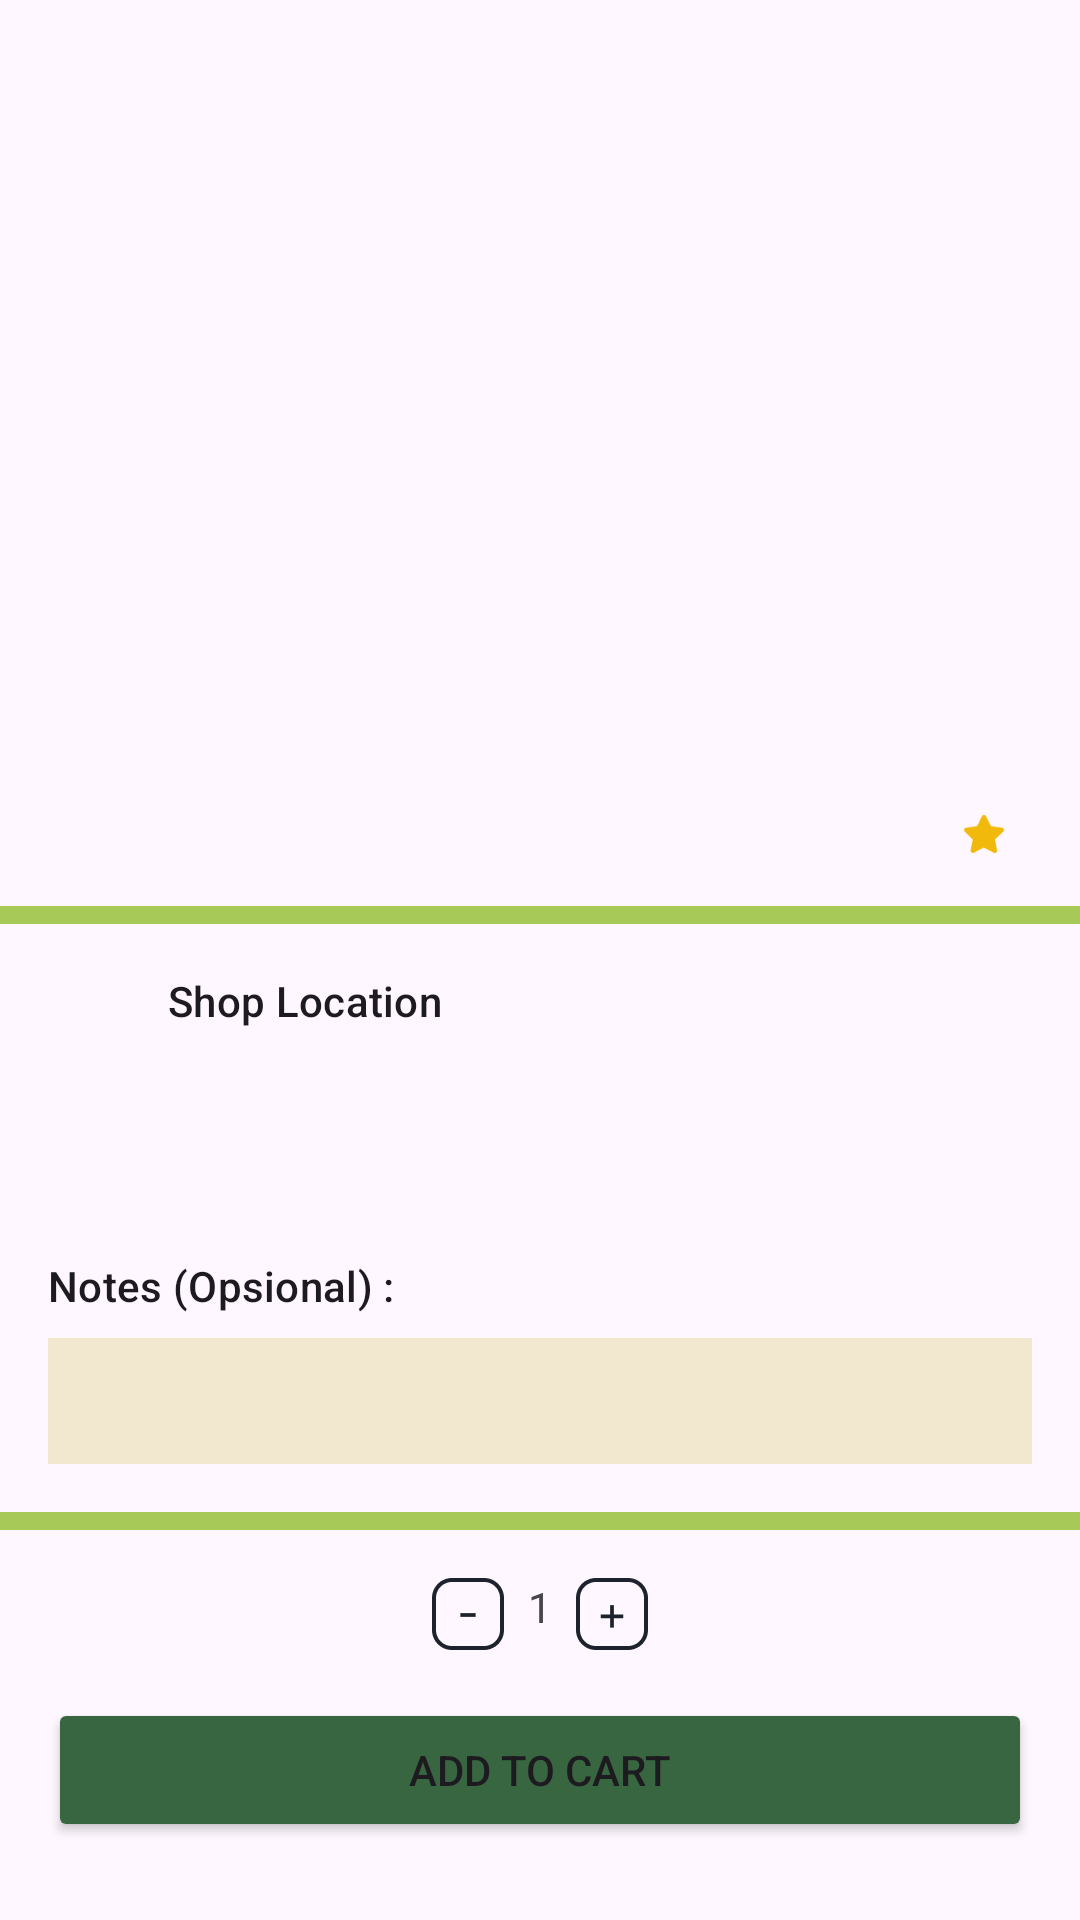

Point at icon controls on the screen. Image size 1080 x 1920, points as [x,y].
minus: [468,1614]
plus: [612,1614]
star: [984,834]
